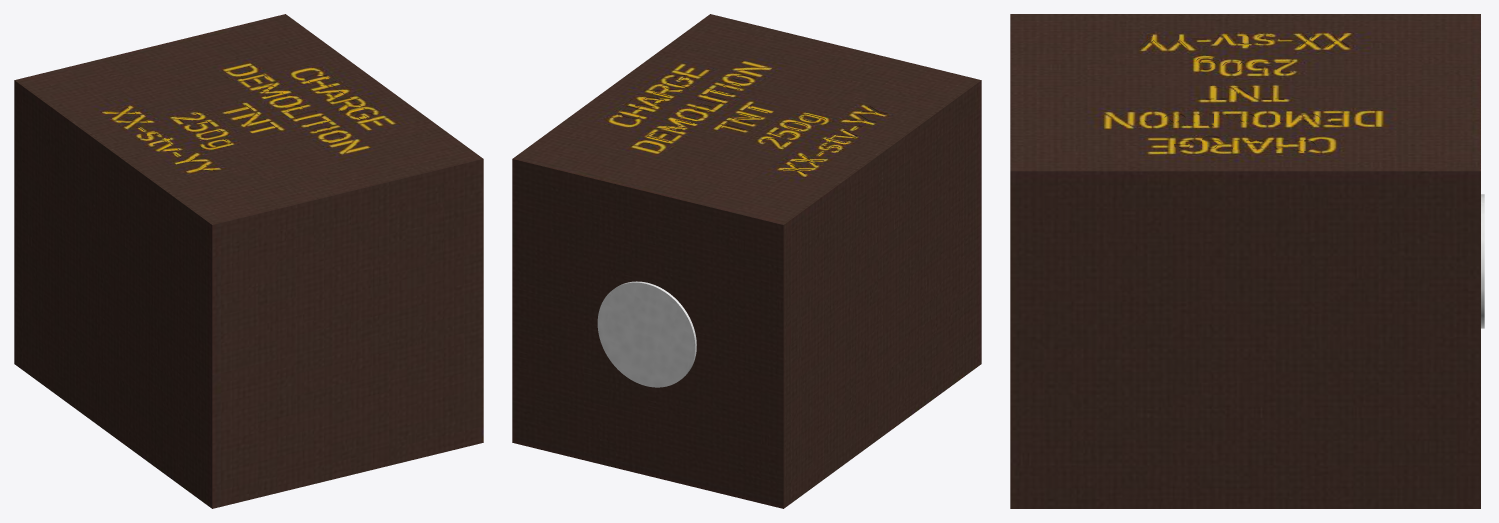
Rendered from TNT_250g.gltf.
The picture shows the model from 3 angles, left to right: view 1: azimuth 30°, elevation 25°; view 2: azimuth 150°, elevation 25°; view 3: azimuth 270°, elevation 25°; orthographic projection. The views are drawn at different scales.
Parts seen in each view (by area): view 1: S4-TNN-0396, S4-TNN-0385; view 2: S4-TNN-0396, S4-TNN-0385, S4-TNN-0387; view 3: S4-TNN-0396, S4-TNN-0385, S4-TNN-0387.
Part boxes in pixels (x1,y1,x2,y2): S4-TNN-0396: (15,14,483,508); S4-TNN-0385: (14,14,285,364); S4-TNN-0396: (513,14,981,507); S4-TNN-0385: (512,158,784,508); S4-TNN-0387: (597,281,696,387); S4-TNN-0396: (1010,14,1479,508); S4-TNN-0385: (1479,14,1480,508); S4-TNN-0387: (1481,194,1484,328).
Size of the model in its own units: 0.05 by 0.05 by 0.0637.
Materials: 7 (3 with a texture image).
